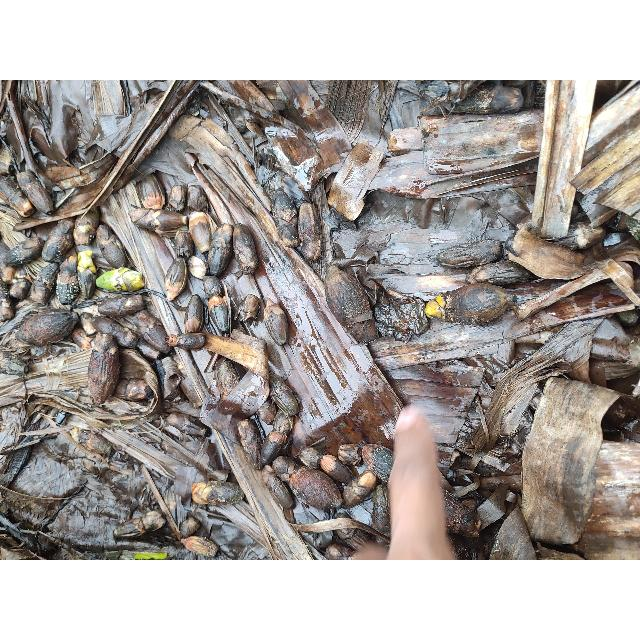damaged: (262, 464, 294, 510), (91, 316, 137, 348), (42, 220, 76, 262), (208, 223, 234, 275), (270, 374, 300, 418), (30, 262, 60, 304), (238, 418, 262, 470), (98, 225, 126, 269), (264, 296, 288, 346), (56, 256, 80, 304), (93, 294, 145, 316), (234, 224, 256, 276), (316, 454, 354, 484), (260, 430, 288, 470), (189, 210, 213, 256), (136, 174, 166, 210), (76, 428, 112, 458), (165, 255, 188, 301), (163, 412, 207, 436), (115, 378, 154, 402), (272, 188, 298, 224), (74, 208, 98, 246), (218, 359, 240, 399), (185, 293, 205, 335), (208, 294, 230, 330), (130, 309, 162, 333), (1, 350, 30, 376), (236, 294, 260, 324), (172, 230, 194, 260), (186, 185, 208, 215), (166, 184, 188, 213), (179, 514, 201, 538), (187, 256, 209, 280), (8, 278, 32, 300), (72, 328, 92, 350)
